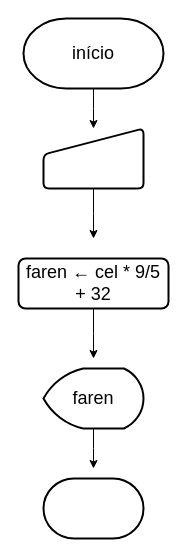
Some shapes in this 186 by 556 pixel diagram are drawn without their labels. Here are the shapes that lost their labels. From the top down, the centre of each, then its label:
At [93,158]: "cel".
At [93,508]: "fim".
